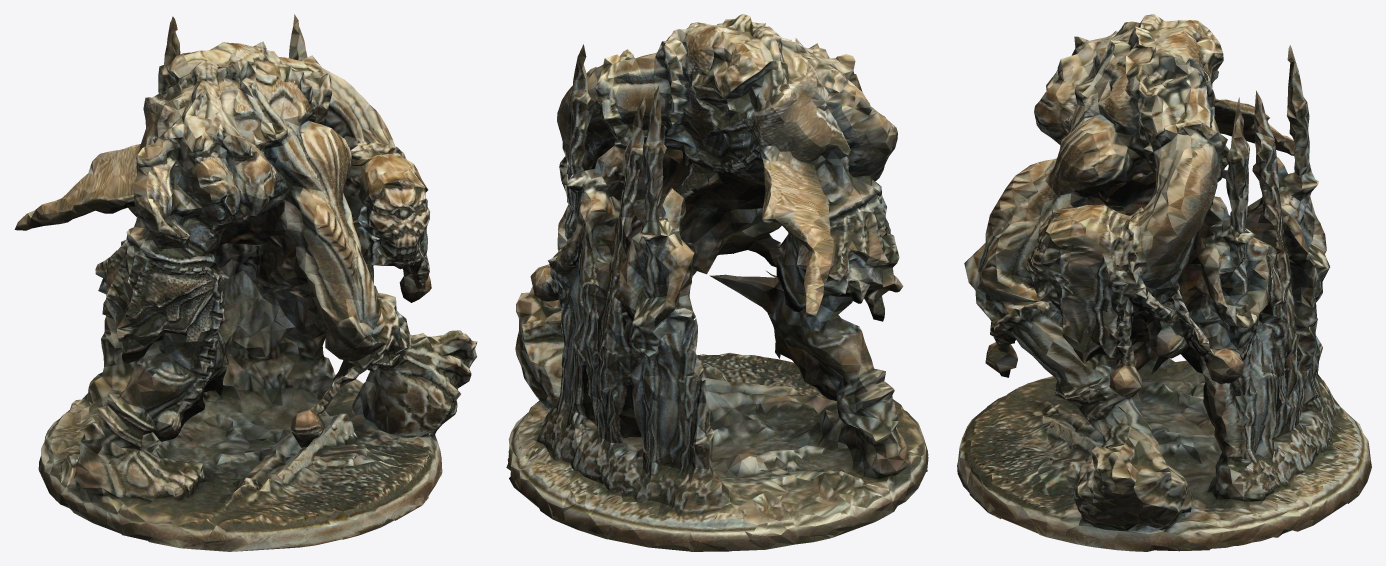
Rendered from fachan.glb.
The picture shows the model from 3 angles, left to right: view 1: azimuth 30°, elevation 25°; view 2: azimuth 150°, elevation 25°; view 3: azimuth 270°, elevation 25°; orthographic projection. The views are drawn at different scales.
Visible parts, largest first — view 1: geometry_0; view 2: geometry_0; view 3: geometry_0.
Boxes of the visible parts, left/top/right/bottom form: geometry_0: left=14, top=14, right=477, bottom=551; geometry_0: left=506, top=14, right=928, bottom=551; geometry_0: left=957, top=14, right=1371, bottom=551.
Size of the model in its own units: 0.0324 by 0.0336 by 0.0294.
Materials: 1 (1 with a texture image).
